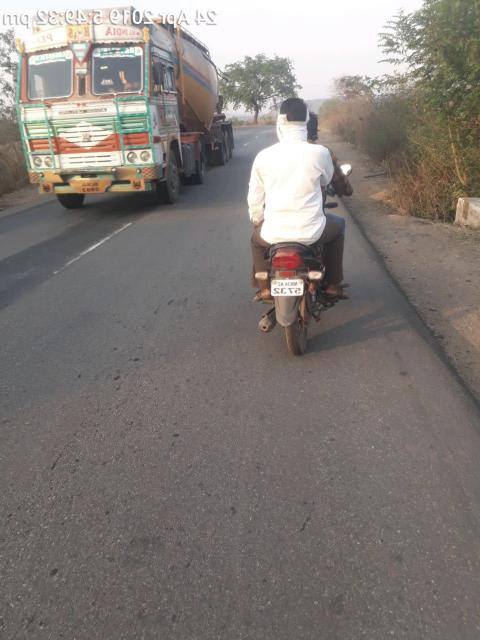motor: (255, 163, 355, 358)
non-helm: (278, 98, 308, 137), (300, 109, 321, 146)
